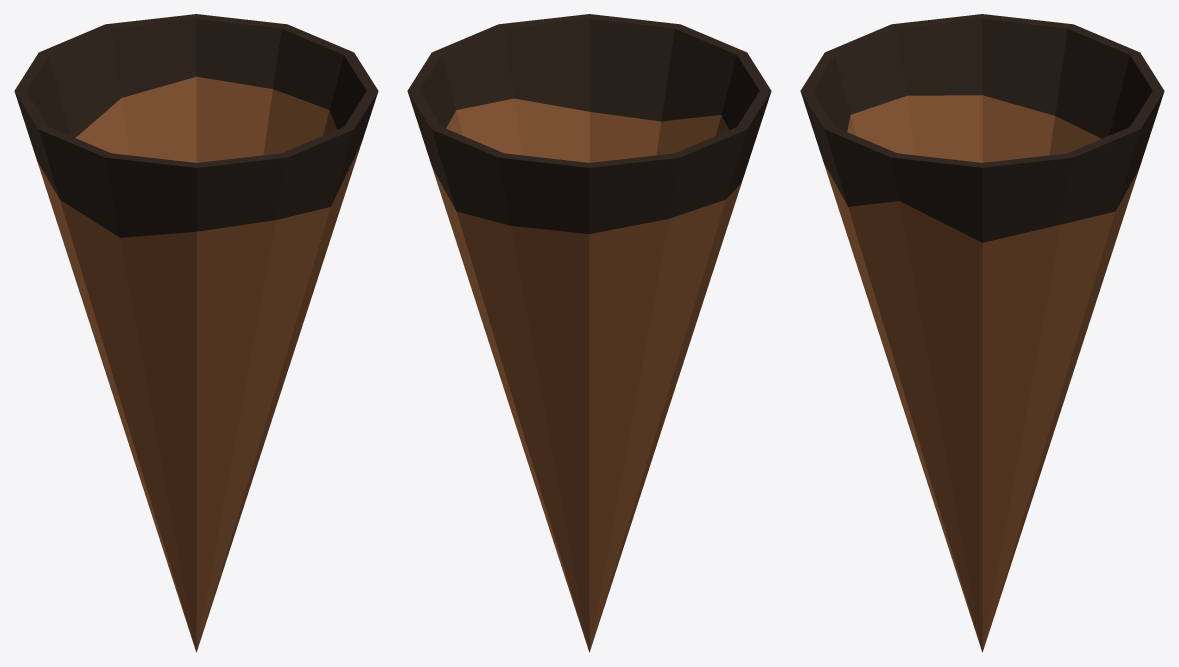
Rendered from IceCreamCone3.fbx.
3 views of the same model, side by side, from view 1: azimuth 30°, elevation 25°; view 2: azimuth 150°, elevation 25°; view 3: azimuth 270°, elevation 25° (orthographic).
Parts seen in each view (by area): view 1: Ice_Cream_Cone_3; view 2: Ice_Cream_Cone_3; view 3: Ice_Cream_Cone_3.
Boxes of the visible parts, bbox=[...] form: Ice_Cream_Cone_3: bbox=[14, 14, 378, 652]; Ice_Cream_Cone_3: bbox=[407, 14, 771, 652]; Ice_Cream_Cone_3: bbox=[800, 14, 1164, 652].
Bounding box in the file's own units: 11.63 × 19.81 × 11.63.
